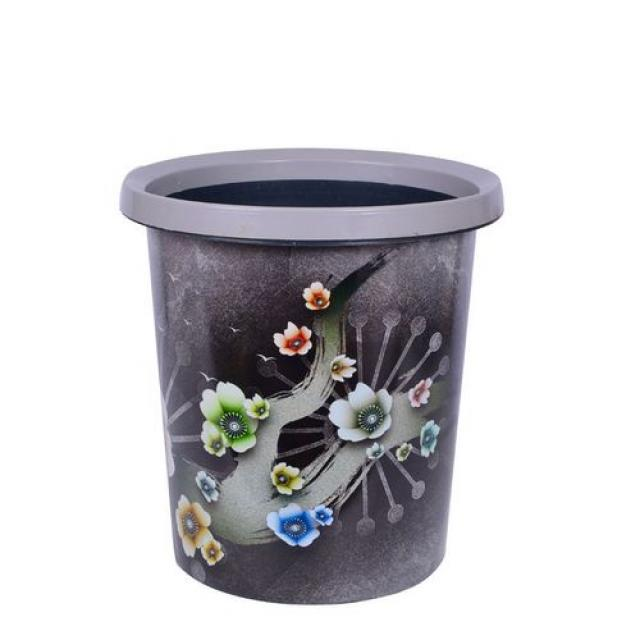Dustbin: (115, 142, 507, 610)
